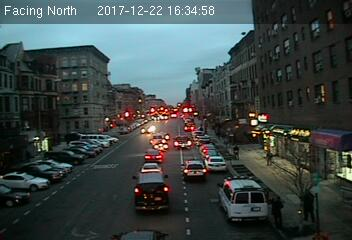car: (180, 160, 207, 182), (205, 155, 227, 171), (139, 162, 163, 175), (172, 136, 192, 150), (142, 149, 163, 162)
pedestrian: (299, 187, 317, 226)
police: (216, 175, 270, 222)
truck: (131, 172, 172, 213)
